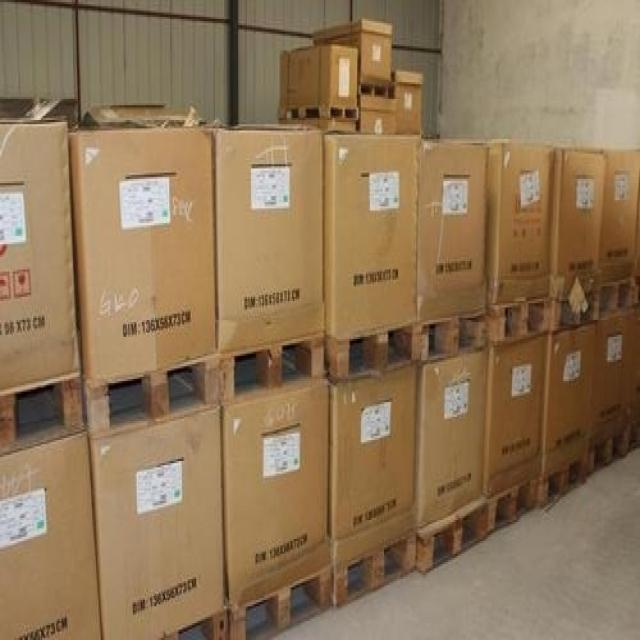box: (71, 117, 219, 384), (90, 402, 226, 638), (215, 127, 327, 354), (221, 376, 331, 607), (0, 113, 80, 398), (0, 420, 102, 638), (323, 131, 418, 341), (330, 357, 417, 571), (418, 138, 490, 324), (419, 341, 487, 531), (482, 328, 549, 496), (488, 139, 557, 302), (549, 148, 606, 300), (543, 321, 595, 476), (313, 18, 394, 93), (597, 149, 639, 285), (279, 46, 357, 111), (591, 312, 628, 445), (393, 69, 424, 140), (360, 95, 397, 134), (627, 307, 639, 425)
